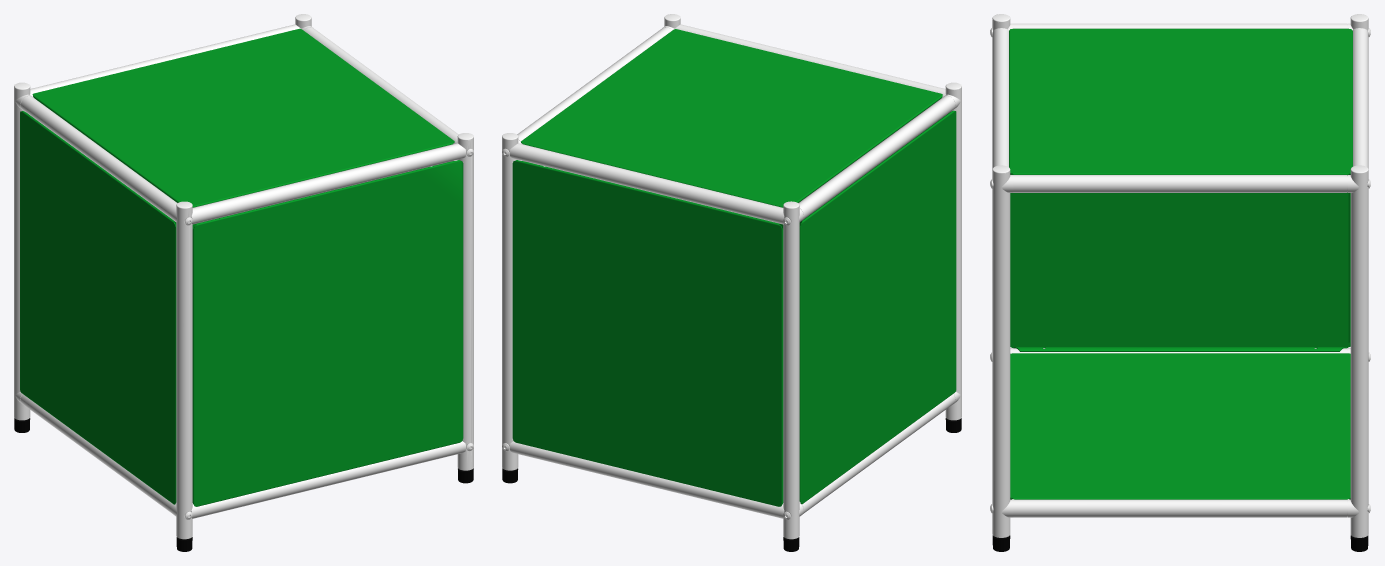
File: 40x40x40-2-3-green_optimized_optimized.glb
The picture shows the model from 3 angles, left to right: view 1: azimuth 30°, elevation 25°; view 2: azimuth 150°, elevation 25°; view 3: azimuth 270°, elevation 25°; orthographic projection. The views are drawn at different scales.
Visible parts, largest first — view 1: 直角鐵板-40x40-5 - 零件, 反-鐵管-40-354..4-1 - 零件, 圓形腳+調整器-1 - 零件; view 2: 直角鐵板-40x40-5 - 零件, 反-鐵管-40-354..4-1 - 零件, 圓形腳+調整器-1 - 零件; view 3: 直角鐵板-40x40-5 - 零件, 反-鐵管-40-354..4-1 - 零件, 圓形腳+調整器-1 - 零件.
Boxes of the visible parts, left/top/right/bottom form: 直角鐵板-40x40-5 - 零件: left=20, top=28, right=463, bottom=506; 反-鐵管-40-354..4-1 - 零件: left=14, top=14, right=473, bottom=539; 圓形腳+調整器-1 - 零件: left=14, top=418, right=473, bottom=551; 直角鐵板-40x40-5 - 零件: left=512, top=29, right=956, bottom=506; 反-鐵管-40-354..4-1 - 零件: left=502, top=14, right=961, bottom=539; 圓形腳+調整器-1 - 零件: left=502, top=418, right=961, bottom=551; 直角鐵板-40x40-5 - 零件: left=1009, top=28, right=1352, bottom=499; 反-鐵管-40-354..4-1 - 零件: left=990, top=14, right=1370, bottom=537; 圓形腳+調整器-1 - 零件: left=992, top=535, right=1368, bottom=551.
Bounding box in the file's own units: 0.3992 × 0.4453 × 0.4035.
